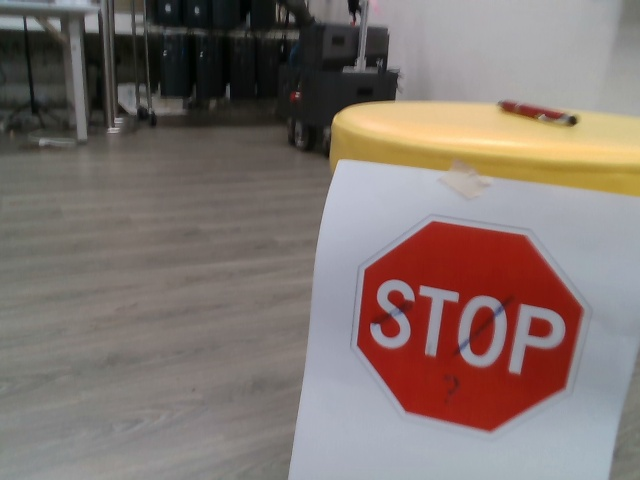stop: (352, 214, 595, 436)
